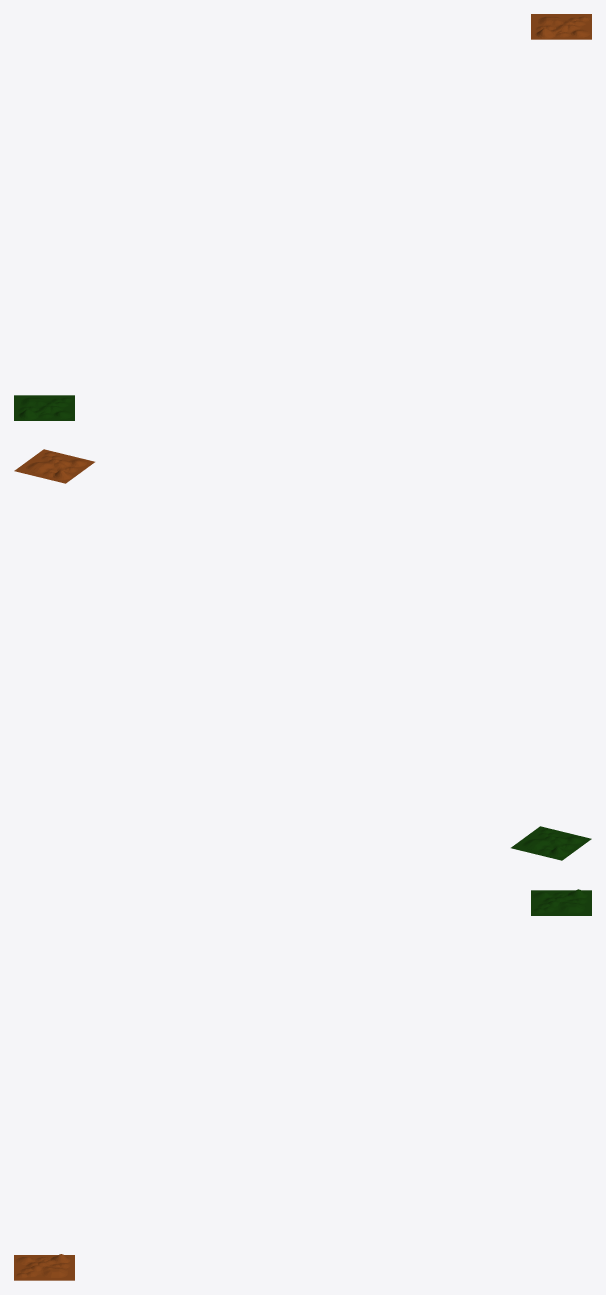
Rendered from Terrain_Part_Plane_5.glb.
3 renders of one model, top to bottom at view 1: azimuth 90°, elevation 25°; view 2: azimuth 150°, elevation 25°; view 3: azimuth 270°, elevation 25°, orthographic.
Visible parts, largest first — view 1: Terrain_Part_Plane_5.002; view 2: Terrain_Part_Plane_5.002; view 3: Terrain_Part_Plane_5.002.
Part boxes in pixels (x1,y1,x2,y2): Terrain_Part_Plane_5.002: (14,14,591,420); Terrain_Part_Plane_5.002: (14,449,591,860); Terrain_Part_Plane_5.002: (14,889,591,1280).
Bounding box in the file's own units: 310 × 5.13 × 190.
